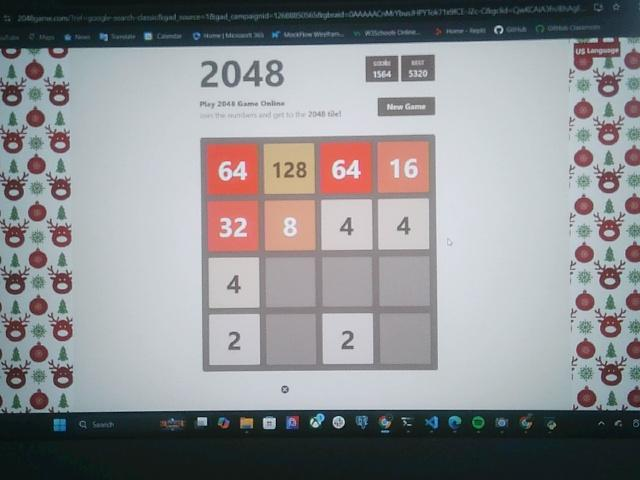best_score_box: (401, 55, 436, 83)
button: (378, 96, 435, 117)
score_box: (366, 56, 398, 81)
